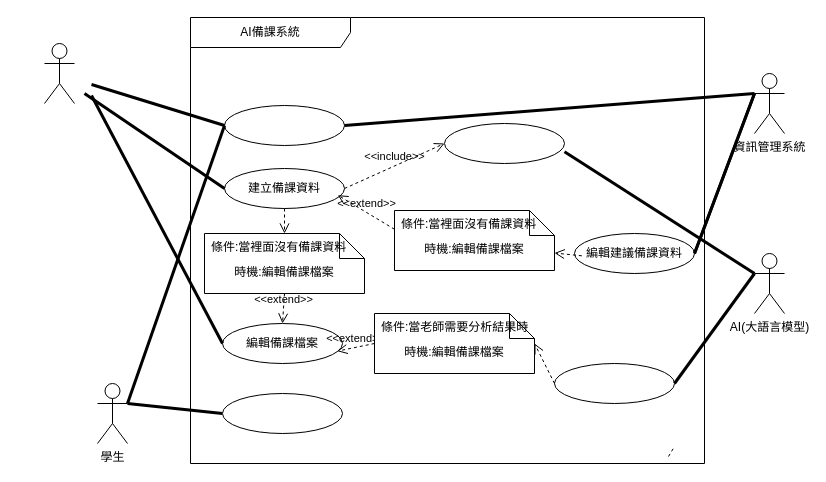
Image size: 826x482. Some labels were removed from this diagram. Here are the shapes that lost their labels. From the top down, the centre of each, then its label:
At point 59,73: "需要備課資料的 老師".
At point 284,125: "登入帳號".
At point 504,143: "建議資料".
At point 614,383: "分析評量".
At point 282,413: "填寫評量".
